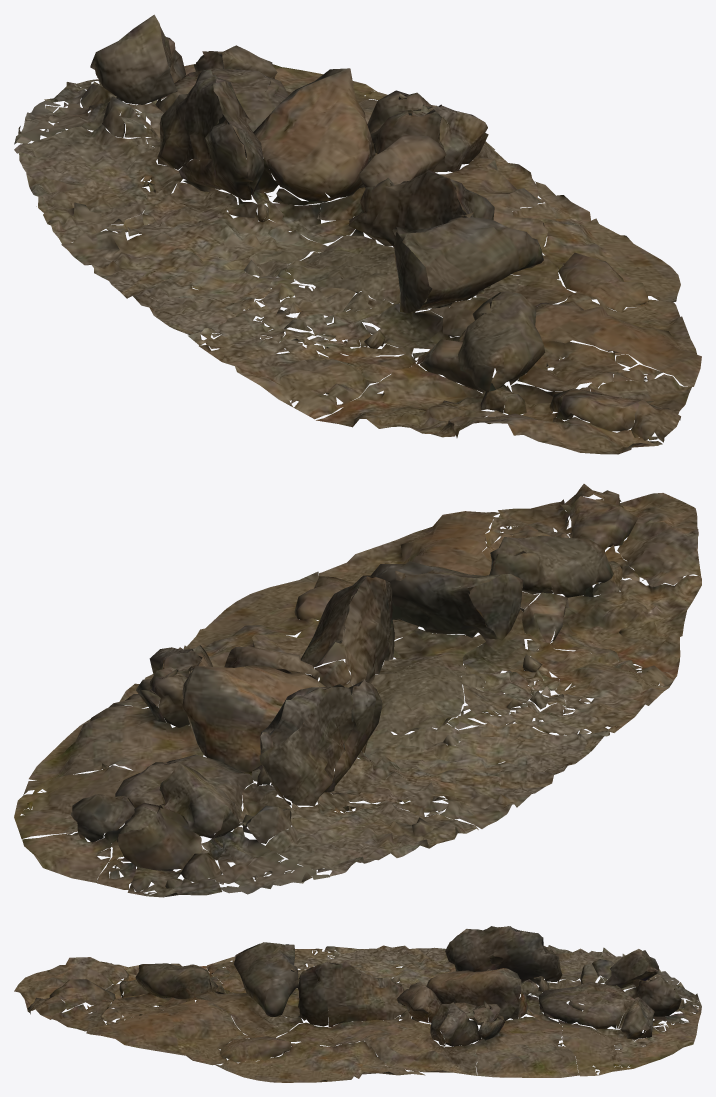
File: ph_coast_land_rocks_02.glb
3 views of the same model, one above another, from view 1: azimuth 30°, elevation 25°; view 2: azimuth 150°, elevation 25°; view 3: azimuth 270°, elevation 25° (orthographic). The views are drawn at different scales.
Visible parts, largest first — view 1: coast_land_rocks_02; view 2: coast_land_rocks_02; view 3: coast_land_rocks_02.
Boxes of the visible parts, box(x1,y1,x2,y2) form: coast_land_rocks_02: box(14, 14, 701, 454); coast_land_rocks_02: box(14, 484, 701, 897); coast_land_rocks_02: box(14, 926, 701, 1082).
Size of the model in its own units: 4.89 by 1.38 by 10.45.
1 material, 1 textured.
